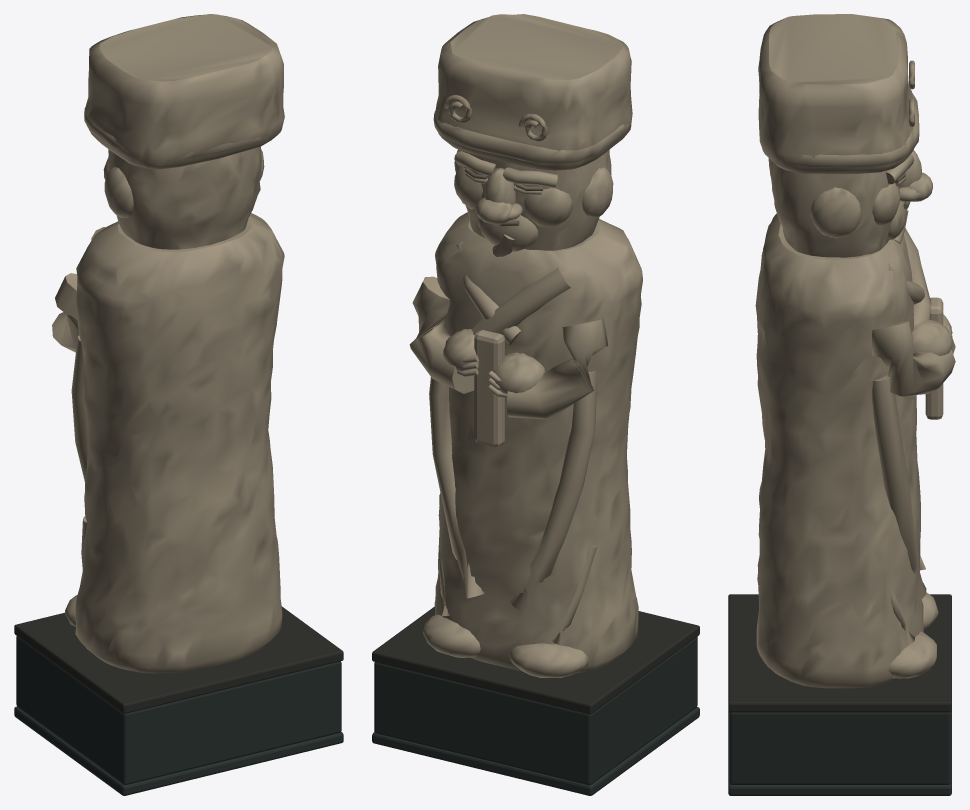
File: keeperL.glb
3 renders of one model, left to right at view 1: azimuth 30°, elevation 25°; view 2: azimuth 150°, elevation 25°; view 3: azimuth 270°, elevation 25°, orthographic. The views are drawn at different scales.
Visible parts, largest first — view 1: Tianjin_keeperL; view 2: Tianjin_keeperL; view 3: Tianjin_keeperL.
Boxes of the visible parts, x1,y1,x2,y2 form: Tianjin_keeperL: (14, 14, 343, 795); Tianjin_keeperL: (372, 14, 699, 795); Tianjin_keeperL: (728, 14, 955, 795).
Size of the model in its own units: 0.7619 by 2.25 by 0.6672.
